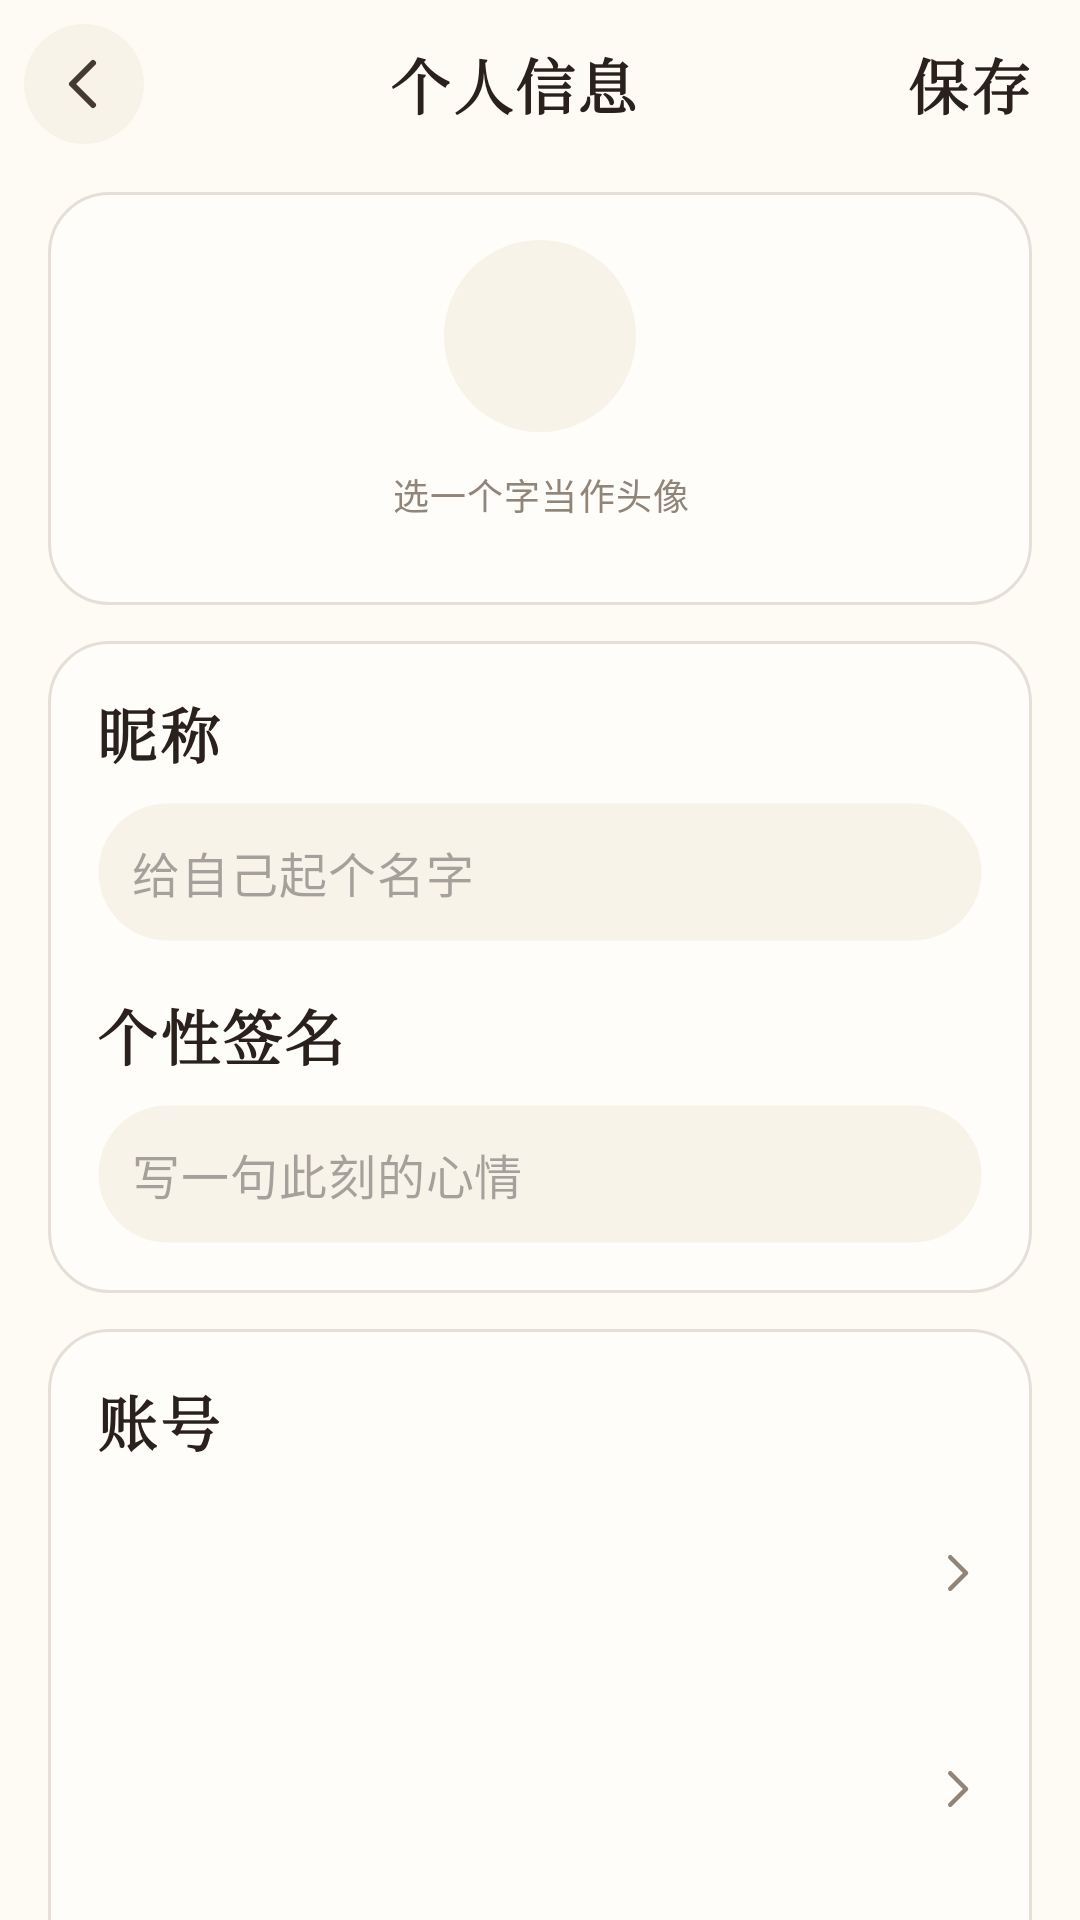

Point at icon controls on the screen. Image size 1080×1920, points as (x=x, y=y).
back: (x=84, y=84)
chevron right: (x=958, y=1573), (x=958, y=1789)
